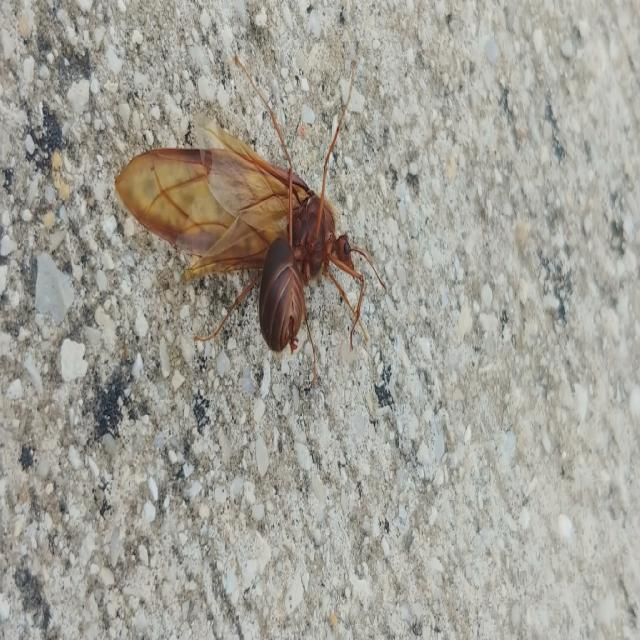Dead-Male-Alate: (114, 55, 387, 390)
